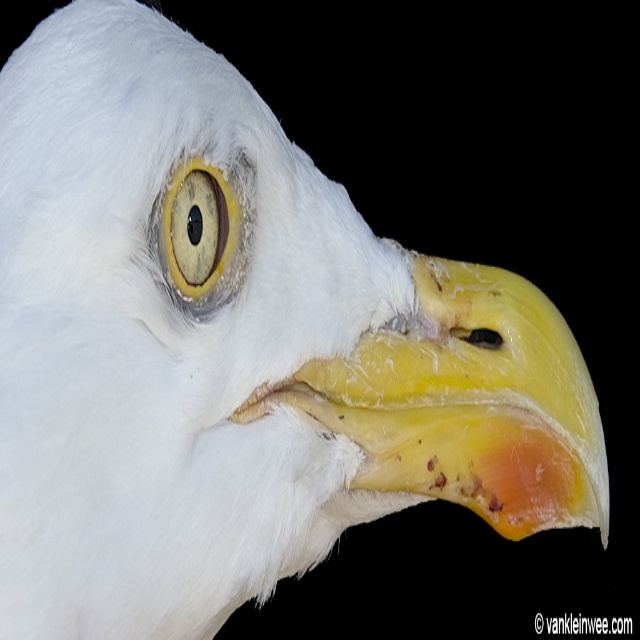Eagle: (0, 3, 611, 638)
